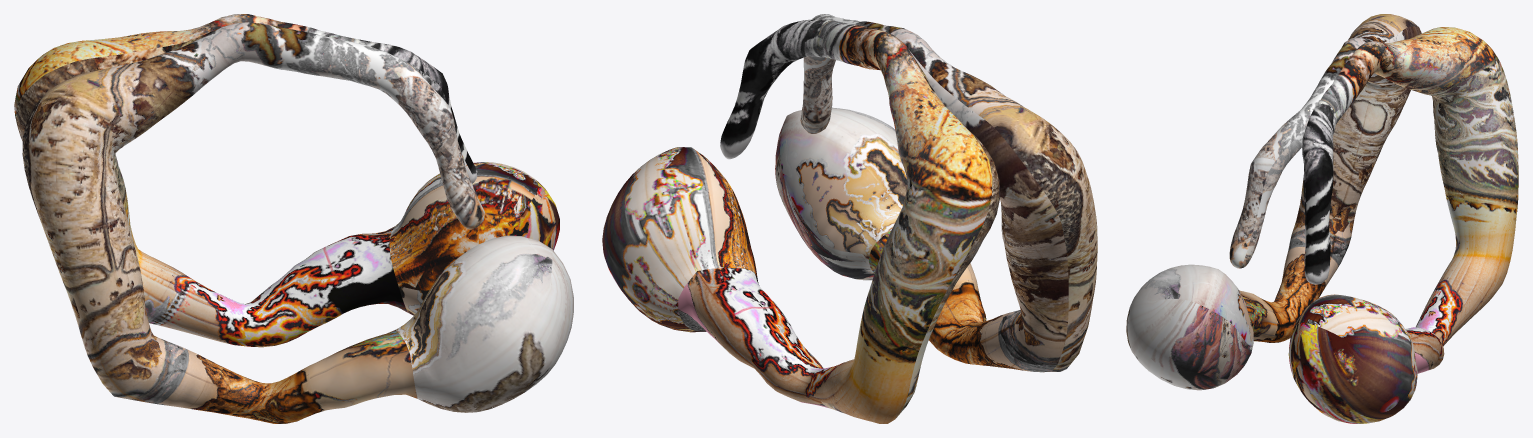
3 renders of one model, left to right at view 1: azimuth 30°, elevation 25°; view 2: azimuth 150°, elevation 25°; view 3: azimuth 270°, elevation 25°, orthographic. The views are drawn at different scales.
Parts seen in each view (by area): view 1: Default.1; view 2: Default.1; view 3: Default.1.
Part boxes in pixels (box(x1,y1,x2,y2)): Default.1: box(14, 14, 573, 423); Default.1: box(602, 14, 1097, 423); Default.1: box(1126, 14, 1518, 423).
Bounding box in the file's own units: 67.58 × 47.3 × 55.53.
1 material, 1 textured.
